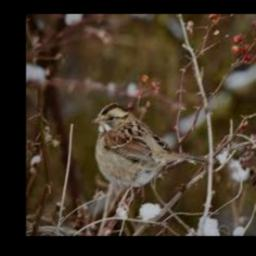Sparrow: (90, 103, 208, 200)
